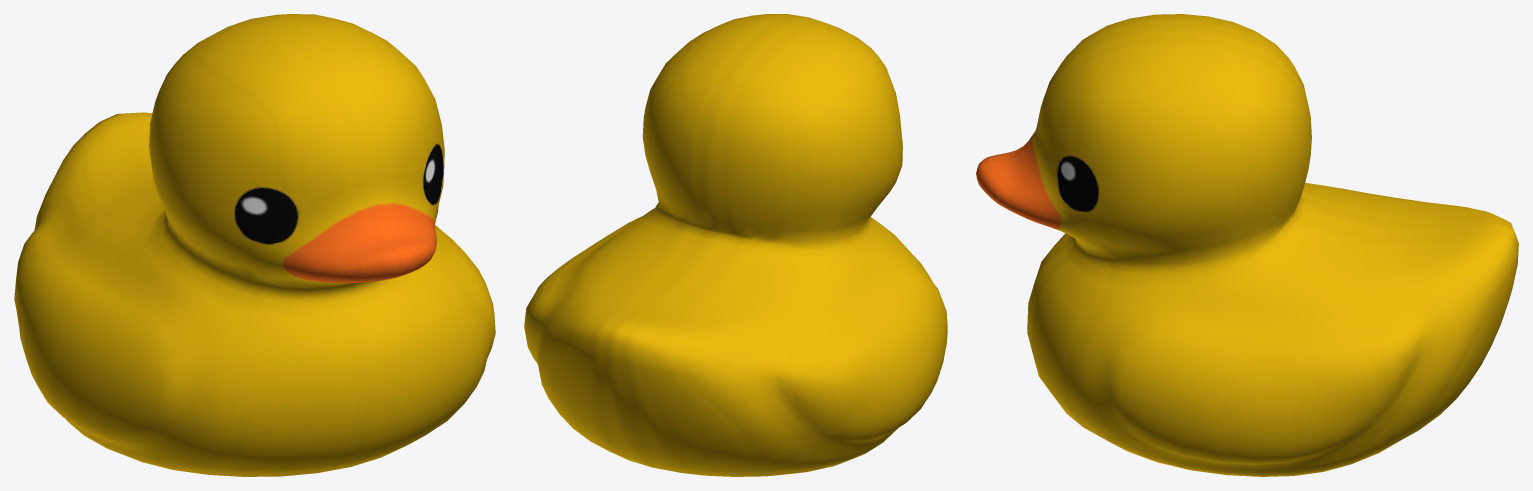
3 renders of one model, left to right at view 1: azimuth 30°, elevation 25°; view 2: azimuth 150°, elevation 25°; view 3: azimuth 270°, elevation 25°, orthographic. The views are drawn at different scales.
Bounding box in the file's own units: 1.06 × 1.03 × 1.32.
Materials: 2 (1 with a texture image).
